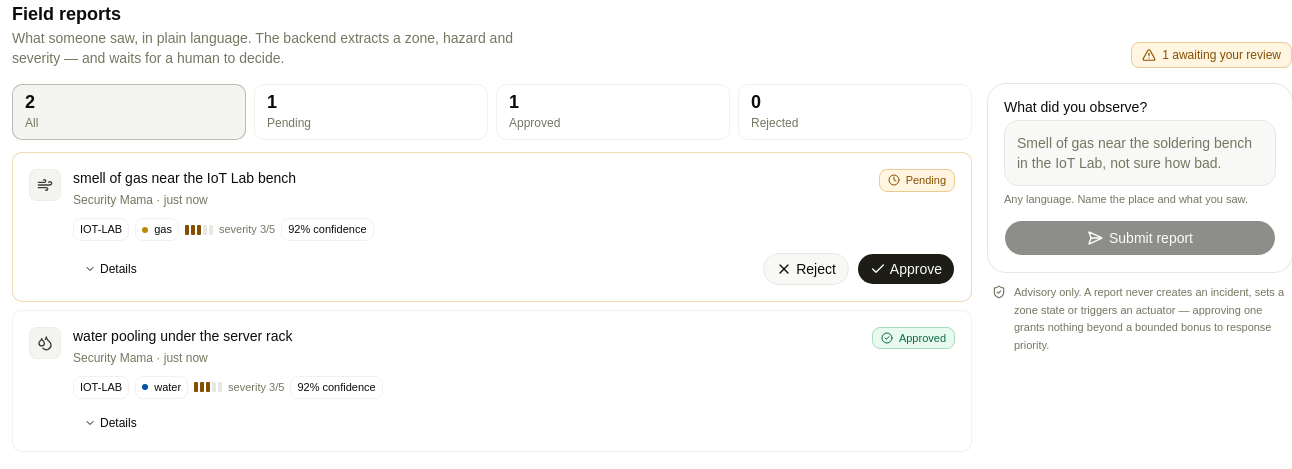
reports page · review queue › filters the list by status and puts the filter in the URL
The image size is (1292, 469).
Expected: the element with test id "report-report-pending" is shown, [12,152,972,302]
Expected: the element with test id "report-report-approved" is shown, [12,310,972,452]
Click the button with aria-label "Pending (1)" at {"x": 371, "y": 112}, box [254,84,488,140]
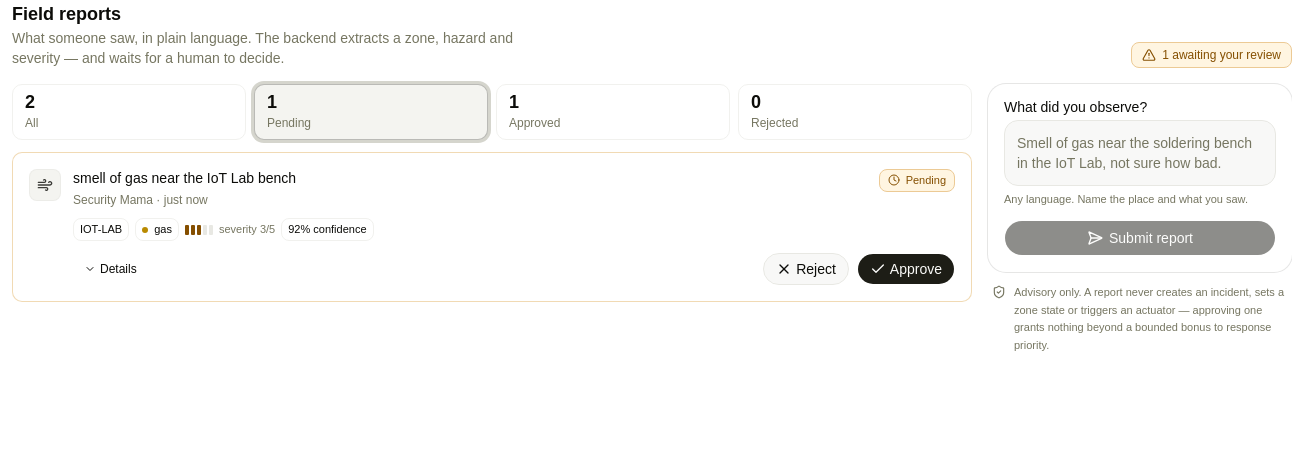
Expected: the element with test id "report-report-pending" is shown, [12,152,972,302]
Expected: the element with test id "report-report-approved" is gone
